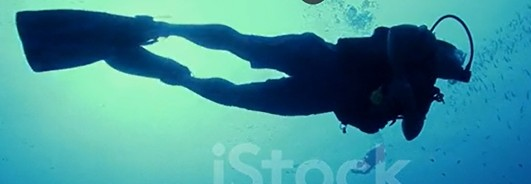human: (33, 10, 473, 141)
